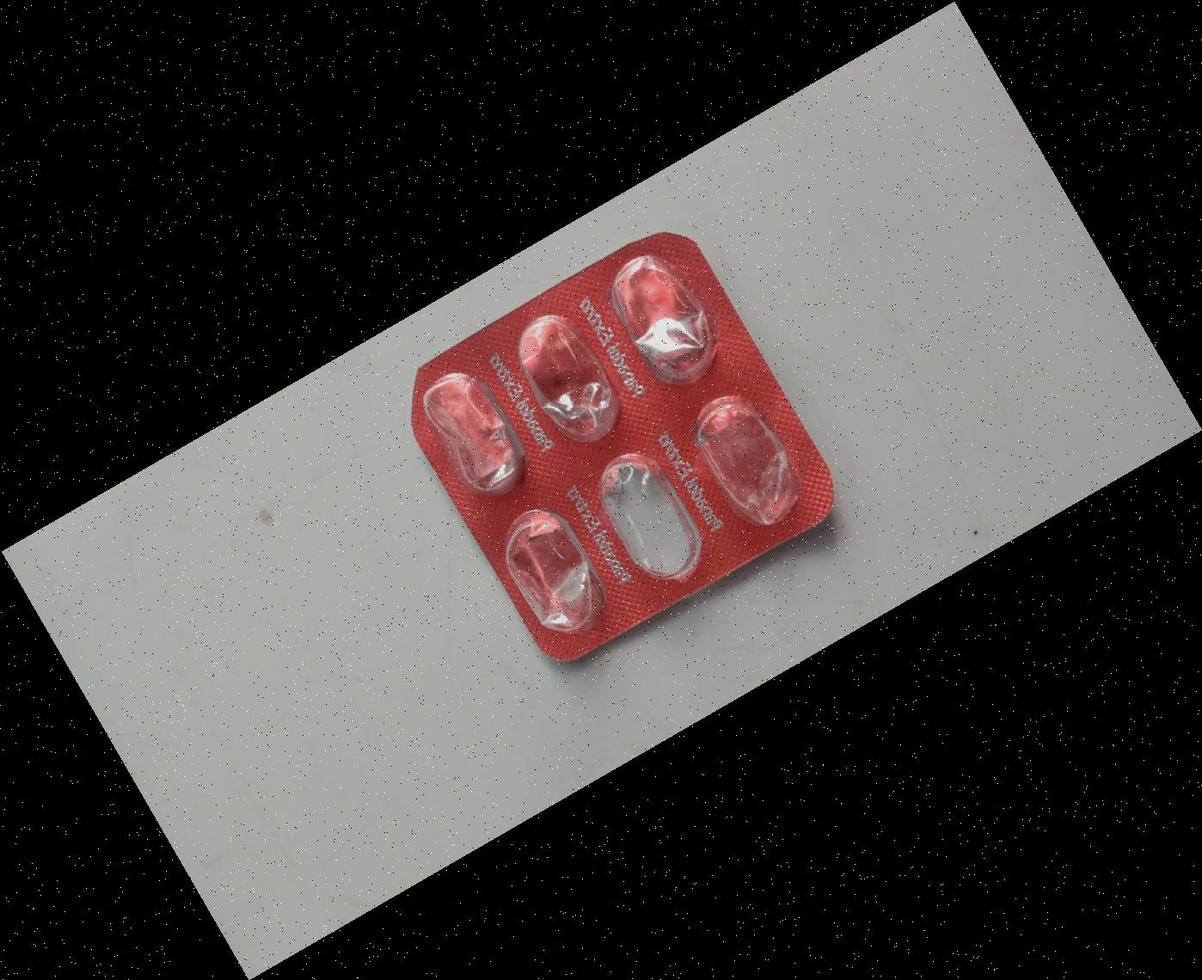Empty: (491, 294, 642, 463), (575, 432, 725, 601), (672, 375, 822, 544), (400, 348, 550, 517), (590, 234, 740, 403), (477, 486, 627, 654)
